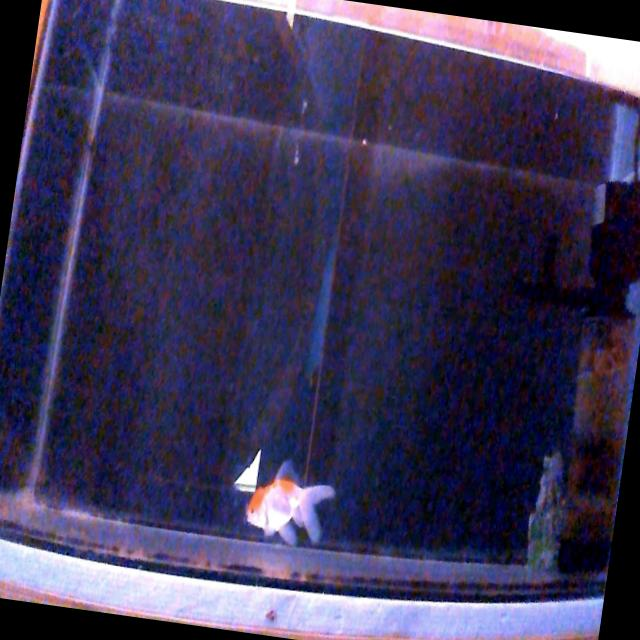fish: (238, 454, 339, 551)
